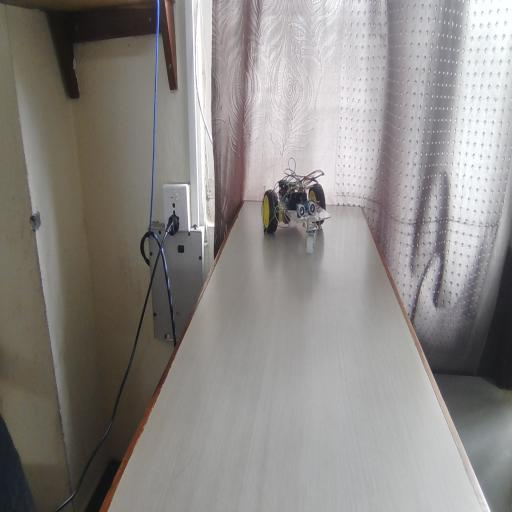car: (262, 153, 333, 254)
